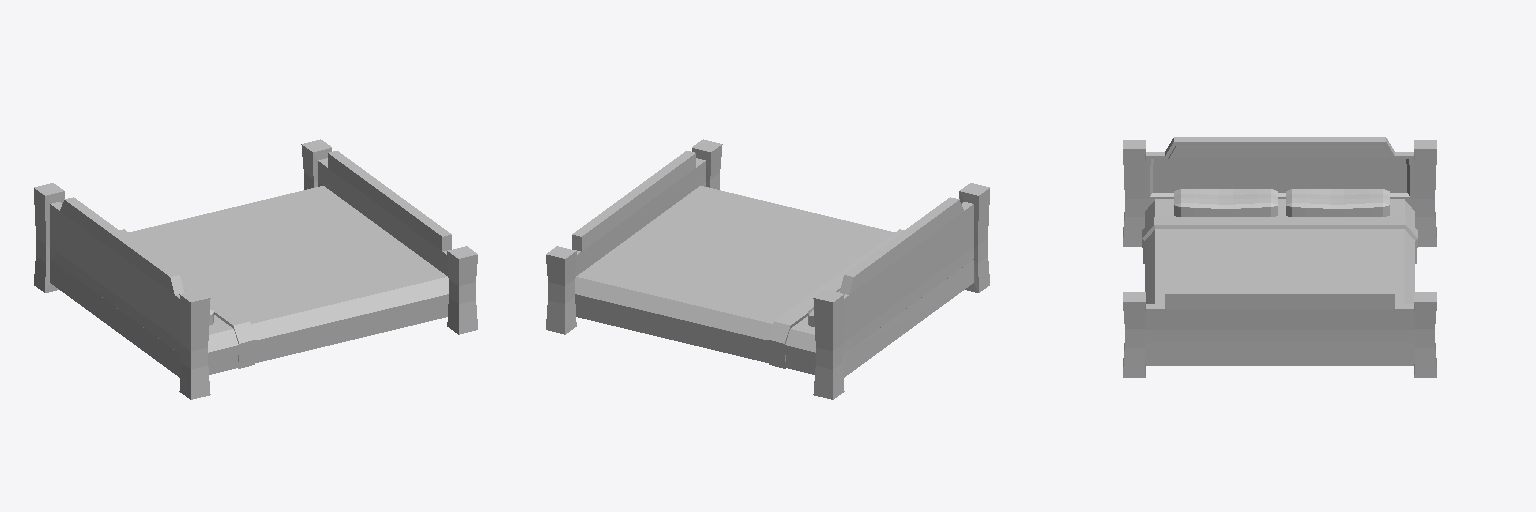
File: BedKing.obj
3 renders of one model, left to right at view 1: azimuth 30°, elevation 25°; view 2: azimuth 150°, elevation 25°; view 3: azimuth 270°, elevation 25°, orthographic.
Visible parts, largest first — view 1: BedKing; view 2: BedKing; view 3: BedKing.
Part boxes in pixels (x1,y1,x2,y2): BedKing: (34, 139, 477, 399); BedKing: (546, 139, 989, 399); BedKing: (1123, 137, 1436, 377).
Size of the model in its own units: 1.43 by 0.4898 by 1.35.